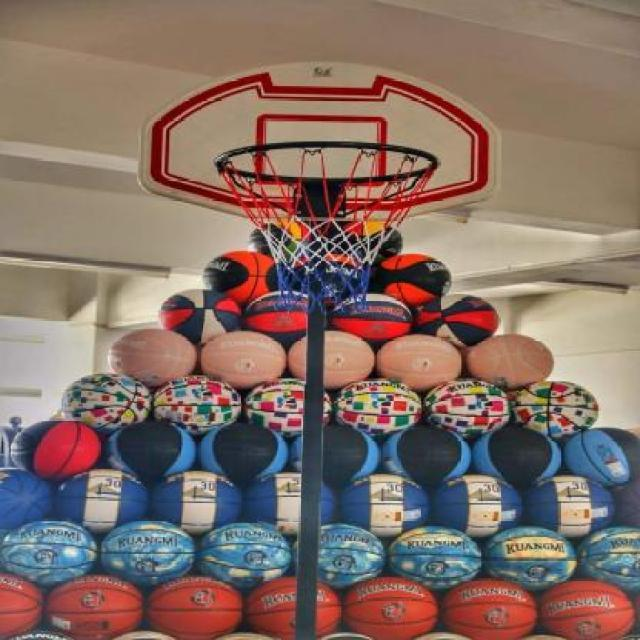basketball: (246, 575, 346, 640), (342, 576, 440, 640), (46, 575, 146, 637), (442, 578, 540, 640), (196, 521, 292, 583), (151, 577, 245, 639), (390, 525, 484, 587), (5, 519, 99, 579), (542, 580, 634, 640), (103, 520, 197, 578), (200, 330, 288, 388), (1, 570, 44, 638)
rim: (216, 142, 438, 310)
